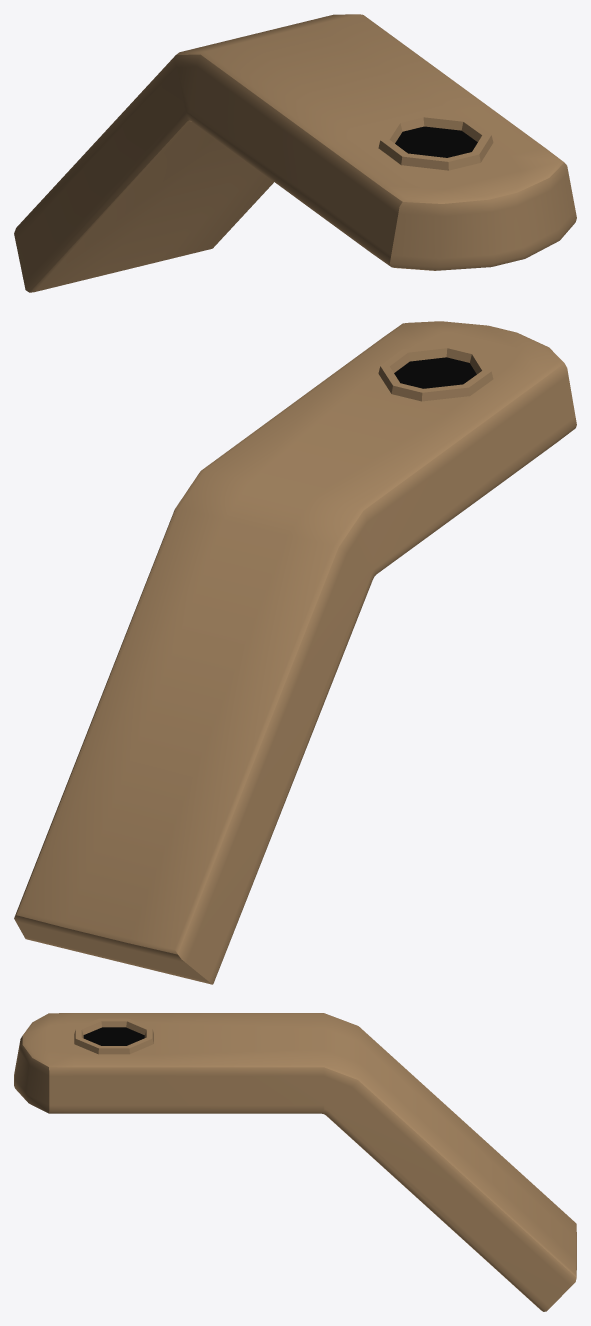
File: RotatorLockerUpper.fbx
3 views of the same model, one above another, from view 1: azimuth 30°, elevation 25°; view 2: azimuth 150°, elevation 25°; view 3: azimuth 270°, elevation 25° (orthographic). The views are drawn at different scales.
Parts seen in each view (by area): view 1: RotatorLockerUpper; view 2: RotatorLockerUpper; view 3: RotatorLockerUpper.
Part boxes in pixels (x1,y1,x2,y2): RotatorLockerUpper: (14,14,576,292); RotatorLockerUpper: (14,321,576,984); RotatorLockerUpper: (14,1013,576,1311).
Size of the model in its own units: 11.87 by 22.02 by 45.31.
